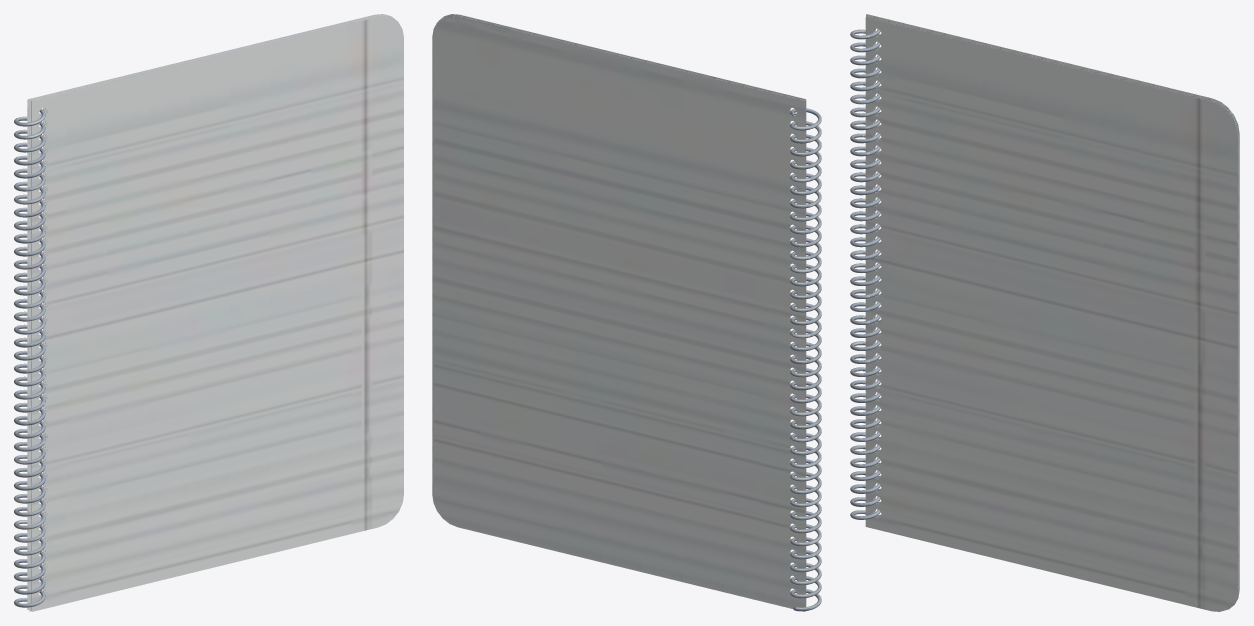
The model's file is notebook.glb.
3 renders of one model, left to right at view 1: azimuth 30°, elevation 25°; view 2: azimuth 150°, elevation 25°; view 3: azimuth 330°, elevation 25°, orthographic.
Visible parts, largest first — view 1: Notebook_Notebook_0.001, Notebook_Notebook_0.004, Notebook, Notebook_Notebook_0.002; view 2: Notebook_Notebook_0.004, Notebook, Notebook_Notebook_0.001, Notebook_Notebook_0.002, Notebook_Notebook_0.003; view 3: Notebook_Notebook_0.001, Notebook_Notebook_0.004, Notebook, Notebook_Notebook_0.002, Notebook_Notebook_0.003.
Part boxes in pixels (x1,y1,x2,y2): Notebook_Notebook_0.001: (15,16,403,611); Notebook_Notebook_0.004: (29,14,403,611); Notebook: (14,14,383,610); Notebook_Notebook_0.002: (17,14,384,610); Notebook_Notebook_0.004: (433,14,806,611); Notebook: (432,15,821,611); Notebook_Notebook_0.001: (791,108,820,608); Notebook_Notebook_0.002: (451,14,818,598); Notebook_Notebook_0.003: (454,15,790,600); Notebook_Notebook_0.001: (851,17,1237,611); Notebook_Notebook_0.004: (866,14,1238,611); Notebook: (850,14,1239,609); Notebook_Notebook_0.002: (853,16,1238,601); Notebook_Notebook_0.003: (875,25,1239,602).
Size of the model in its own units: 4.02 by 5.09 by 0.2848.
Materials: 1 (1 with a texture image).
